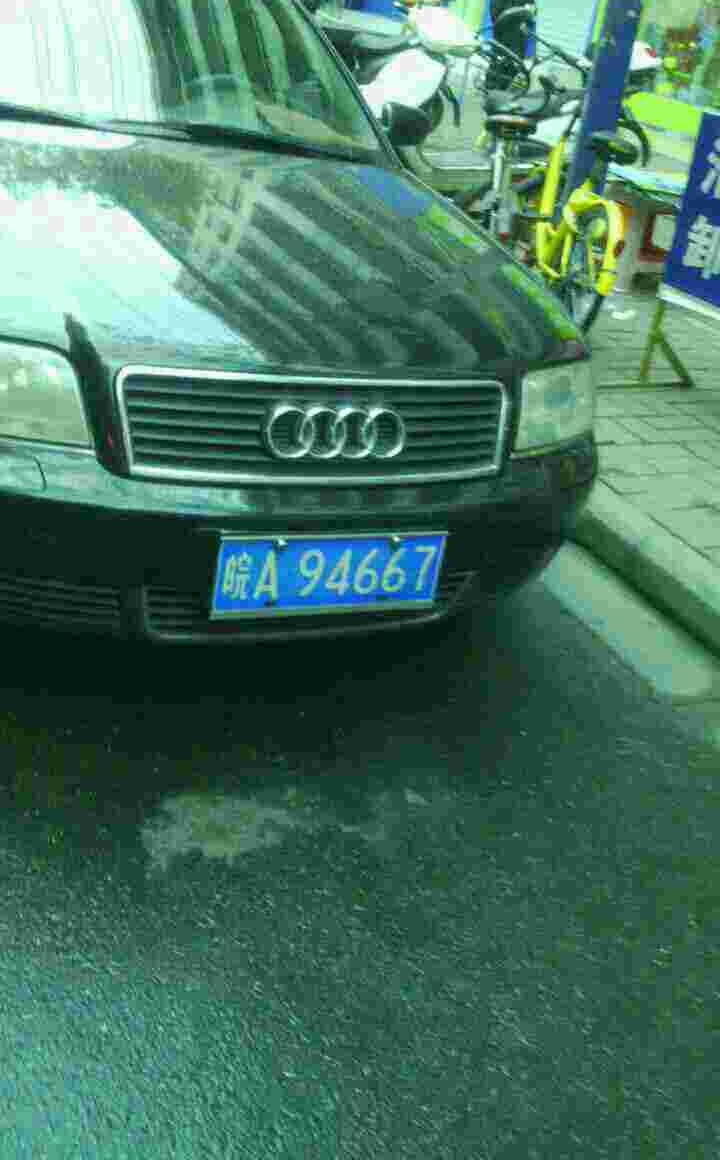license_plate: (215, 535, 442, 615)
